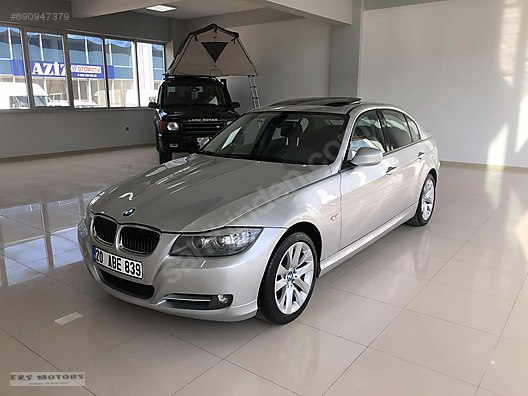bmw: (76, 93, 447, 331)
